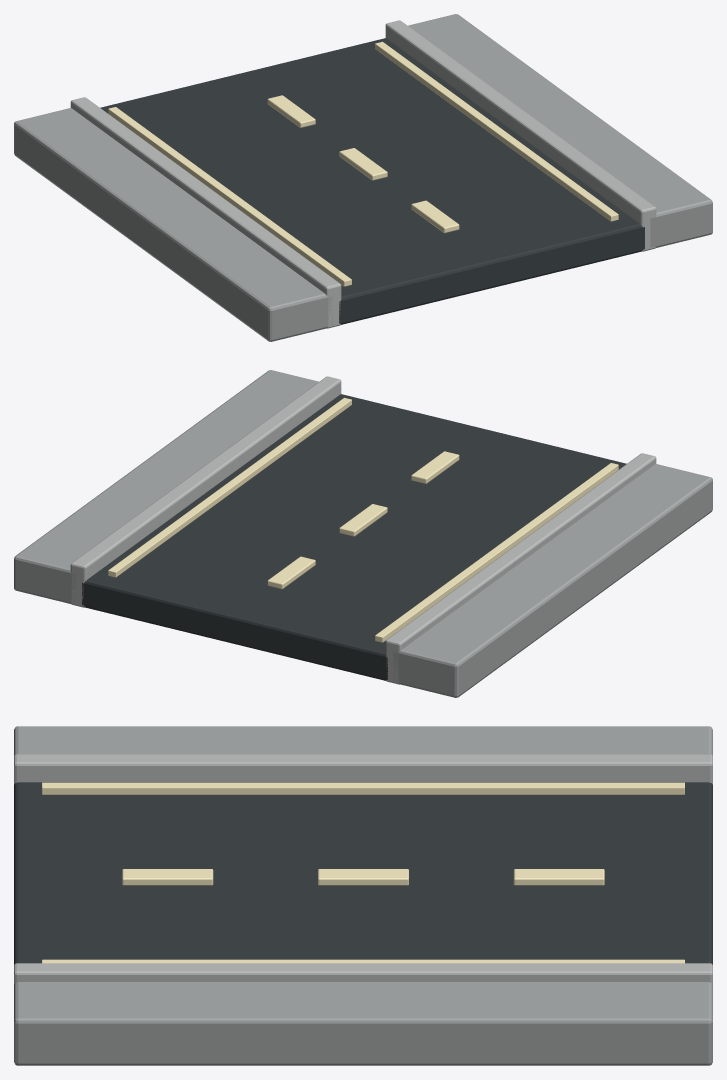
Rendered from road_2_lane_straight.glb.
3 views of the same model, one above another, from view 1: azimuth 30°, elevation 25°; view 2: azimuth 150°, elevation 25°; view 3: azimuth 270°, elevation 25° (orthographic). The views are drawn at different scales.
Visible parts, largest first — view 1: asphalt_surface, sidewalk, sidewalk.001, curb.001, curb, edge_line.001, edge_line, lane_dash, lane_dash.001, lane_dash.002; view 2: asphalt_surface, sidewalk, sidewalk.001, curb.001, curb, edge_line.001, edge_line, lane_dash.001, lane_dash.002, lane_dash; view 3: asphalt_surface, sidewalk.001, curb, sidewalk, curb.001, edge_line, edge_line.001, lane_dash, lane_dash.002, lane_dash.001.
Boxes of the visible parts, left/top/right/bottom form: asphalt_surface: left=100, top=38, right=644, bottom=324; sidewalk: left=14, top=108, right=333, bottom=341; sidewalk.001: left=408, top=14, right=712, bottom=247; curb.001: left=385, top=20, right=656, bottom=251; curb: left=70, top=97, right=341, bottom=328; edge_line.001: left=375, top=41, right=618, bottom=221; edge_line: left=108, top=107, right=351, bottom=286; lane_dash: left=267, top=95, right=315, bottom=127; lane_dash.001: left=339, top=148, right=387, bottom=180; lane_dash.002: left=411, top=200, right=459, bottom=233; asphalt_surface: left=82, top=394, right=626, bottom=680; sidewalk: left=393, top=464, right=712, bottom=697; sidewalk.001: left=14, top=370, right=318, bottom=603; curb.001: left=70, top=376, right=341, bottom=607; curb: left=385, top=453, right=656, bottom=684; edge_line.001: left=108, top=397, right=351, bottom=577; edge_line: left=375, top=463, right=618, bottom=642; lane_dash.001: left=339, top=504, right=387, bottom=536; lane_dash.002: left=411, top=451, right=459, bottom=483; lane_dash: left=267, top=556, right=315, bottom=589; asphalt_surface: left=14, top=782, right=712, bottom=964; sidewalk.001: left=14, top=982, right=712, bottom=1065; curb: left=14, top=754, right=712, bottom=784; sidewalk: left=14, top=726, right=712, bottom=755; curb.001: left=14, top=963, right=712, bottom=983; edge_line: left=42, top=782, right=684, bottom=794; edge_line.001: left=42, top=959, right=684, bottom=963; lane_dash: left=513, top=869, right=604, bottom=885; lane_dash.002: left=122, top=869, right=213, bottom=885; lane_dash.001: left=318, top=869, right=408, bottom=885.
Bounding box in the file's own units: 1 × 0.09 × 1.
